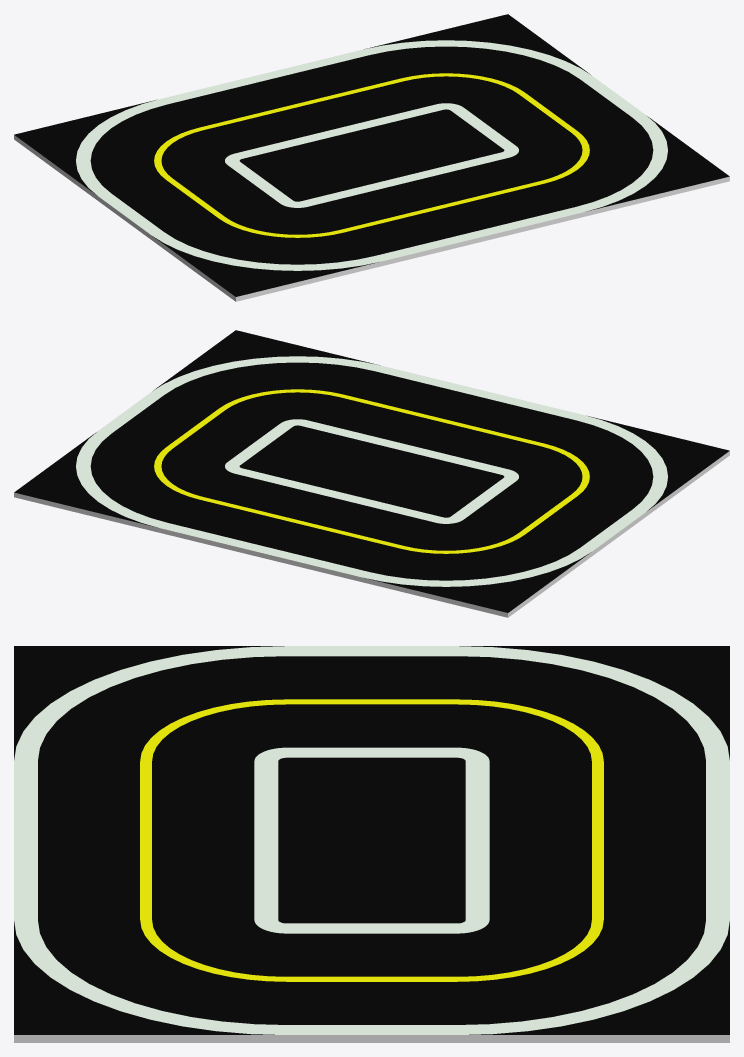
Rendered from circle_road.dae.
3 views of the same model, one above another, from view 1: azimuth 30°, elevation 25°; view 2: azimuth 150°, elevation 25°; view 3: azimuth 270°, elevation 25° (orthographic). The views are drawn at different scales.
Parts seen in each view (by area): view 1: SketchUp (×11); view 2: SketchUp (×11); view 3: SketchUp (×11).
Boxes of the visible parts, x1,y1,x2,y2 form: SketchUp (×11): [14, 14, 729, 301]; SketchUp (×11): [14, 330, 729, 617]; SketchUp (×11): [14, 646, 729, 1042].
Size of the model in its own units: 283 by 220 by 2.62.
